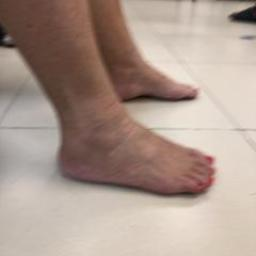Lateral View -Right Foot-: (36, 96, 225, 214)
